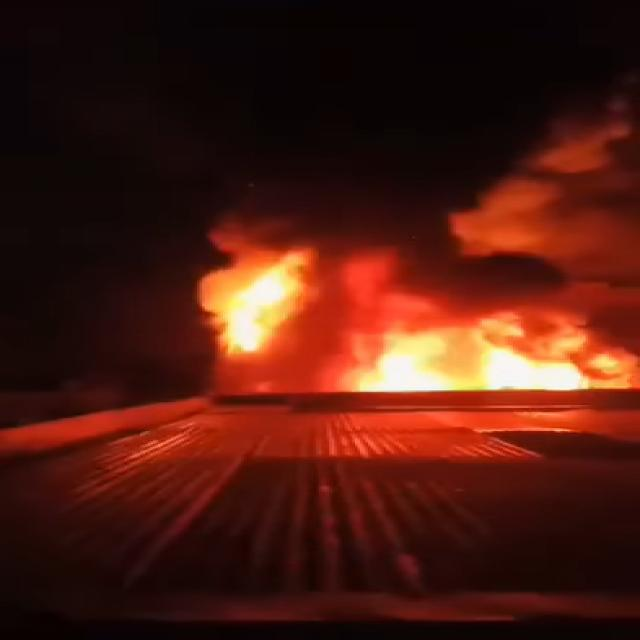Fire: (349, 320, 606, 388), (210, 235, 329, 347)
Smoke: (381, 98, 635, 336), (204, 176, 430, 316)
